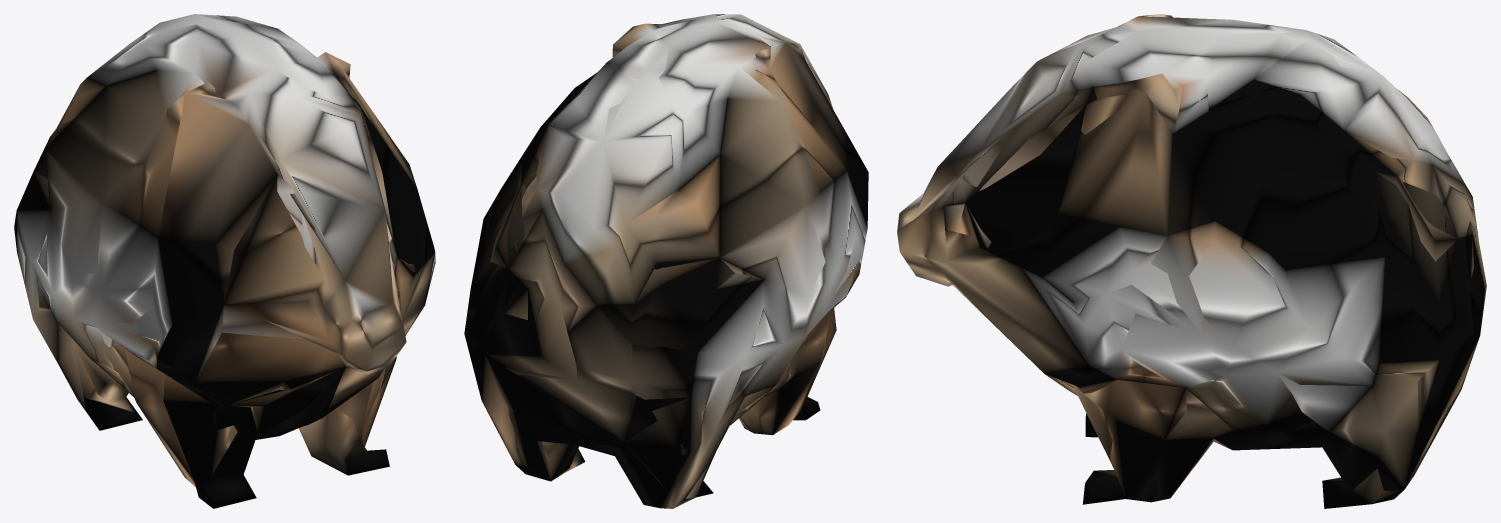
The model's file is gen3d-skunk-lod1.glb.
3 renders of one model, left to right at view 1: azimuth 30°, elevation 25°; view 2: azimuth 150°, elevation 25°; view 3: azimuth 270°, elevation 25°, orthographic. The views are drawn at different scales.
Parts seen in each view (by area): view 1: part_0; view 2: part_0; view 3: part_0.
Boxes of the visible parts, x1,y1,x2,y2 form: part_0: (14,14,435,508); part_0: (464,14,868,508); part_0: (897,14,1486,508).
Size of the model in its own units: 0.7693 by 0.9889 by 1.22.
